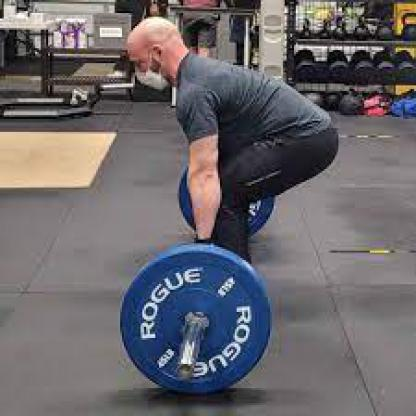Barbell: (176, 362, 200, 387)
